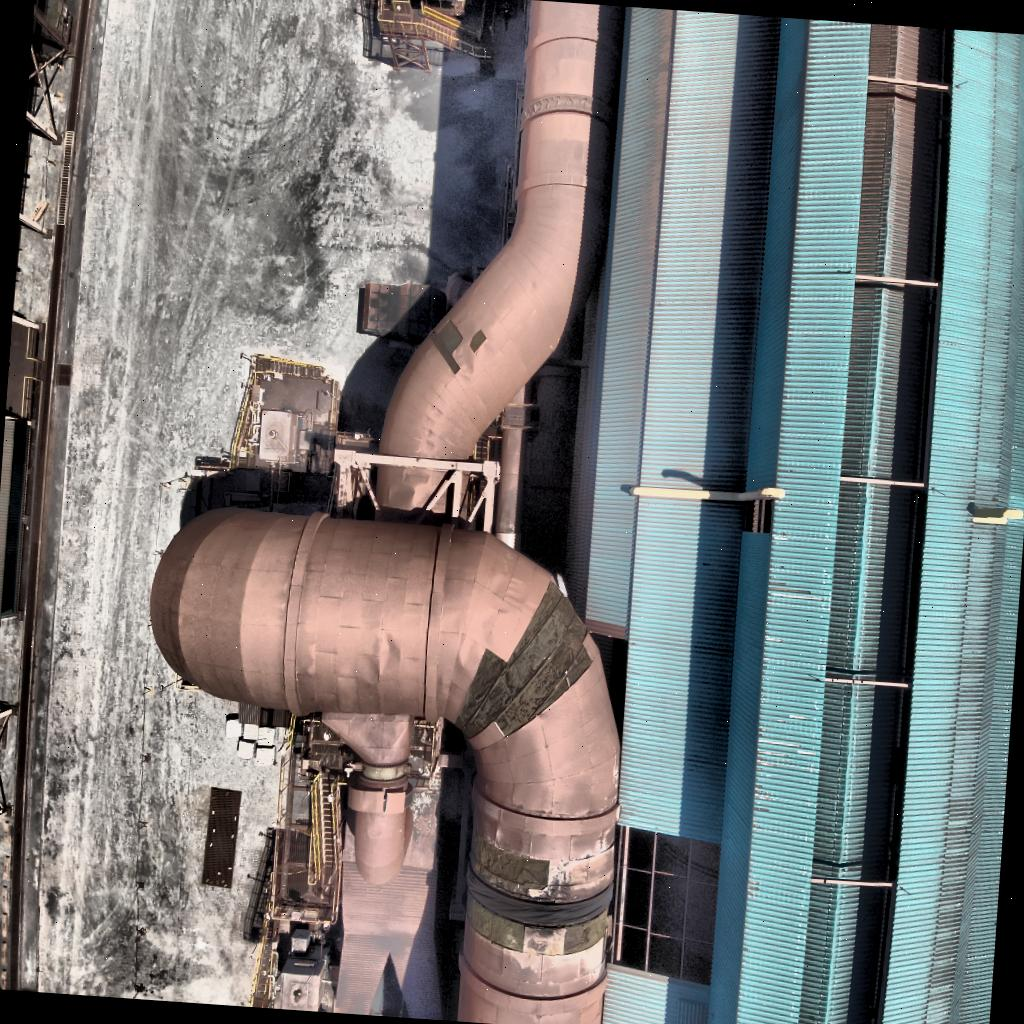Failures: (452, 821, 632, 974), (450, 583, 608, 752), (335, 773, 412, 833), (425, 315, 463, 383), (466, 326, 488, 358)
